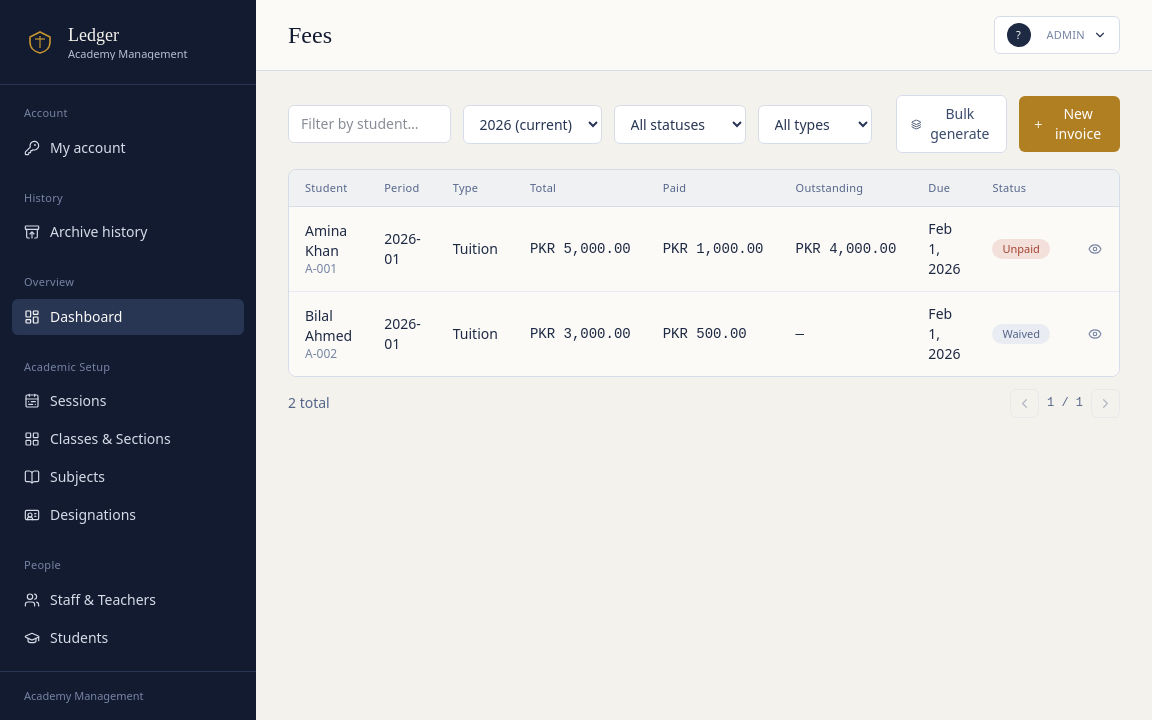
Test: Invoice detail modal › shows Waive and Record payment actions for an unpaid invoice
Click the button named "View invoice" in the row of "Amina Khan": (1095, 249) x1=1082 y1=236 x2=1108 y2=262
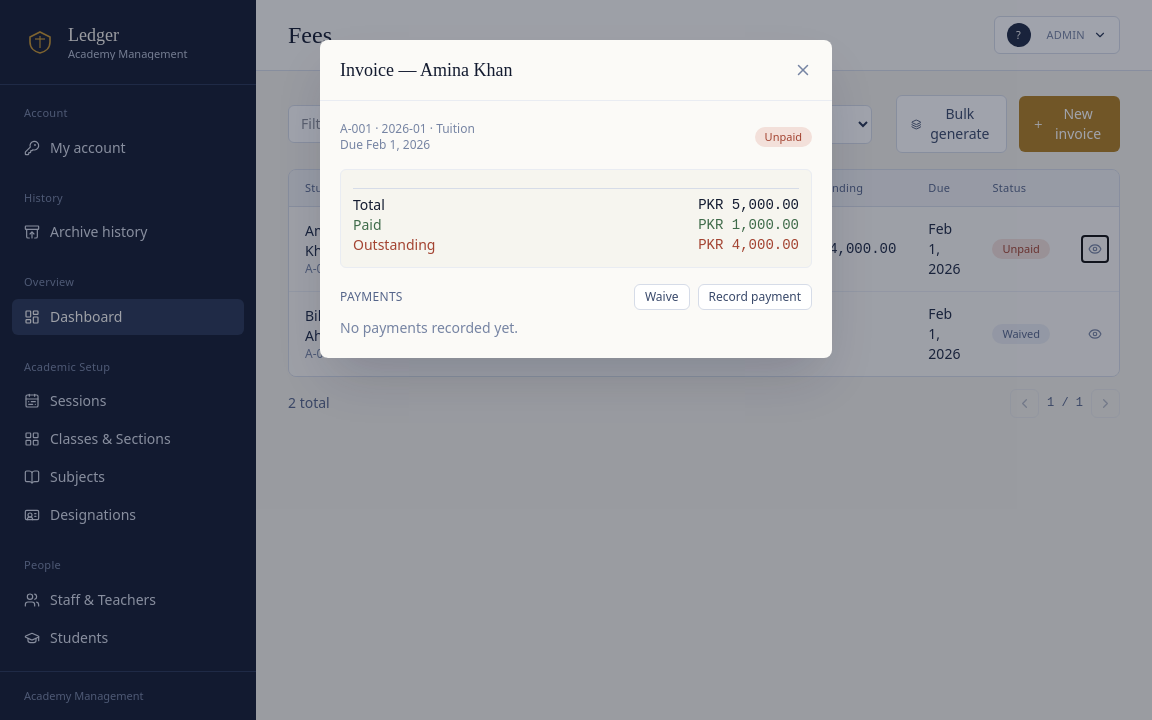
Now the button "Waive" is shown, box x1=634 y1=284 x2=690 y2=310
Now the button "Record payment" is shown, box x1=698 y1=284 x2=812 y2=310
